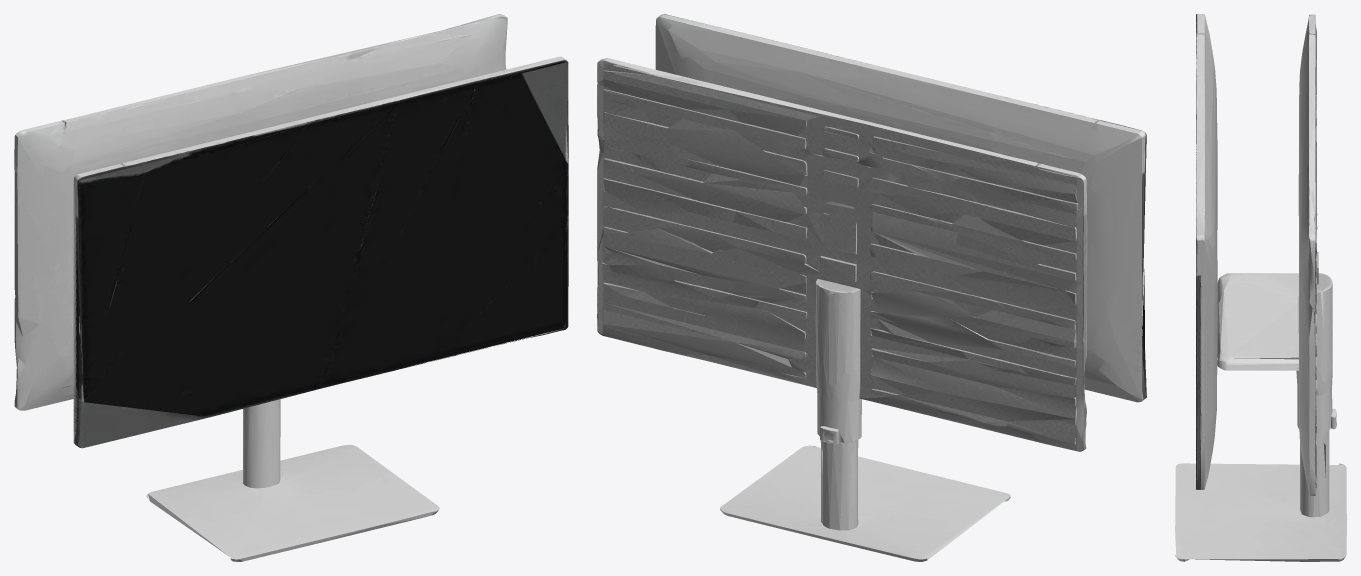
The model's file is monitor_white.glb.
3 views of the same model, side by side, from view 1: azimuth 30°, elevation 25°; view 2: azimuth 150°, elevation 25°; view 3: azimuth 270°, elevation 25° (orthographic). The views are drawn at different scales.
Parts seen in each view (by area): view 1: 0; view 2: 0; view 3: 0.
Part boxes in pixels (<box>): 0: <box>14,14,568,561</box>; 0: <box>597,14,1146,561</box>; 0: <box>1175,14,1346,561</box>.
Bounding box in the file's own units: 0.62 × 0.5 × 0.2.
1 material, 1 textured.
